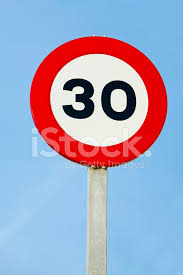Speed_limit_30km: (30, 34, 168, 166)
